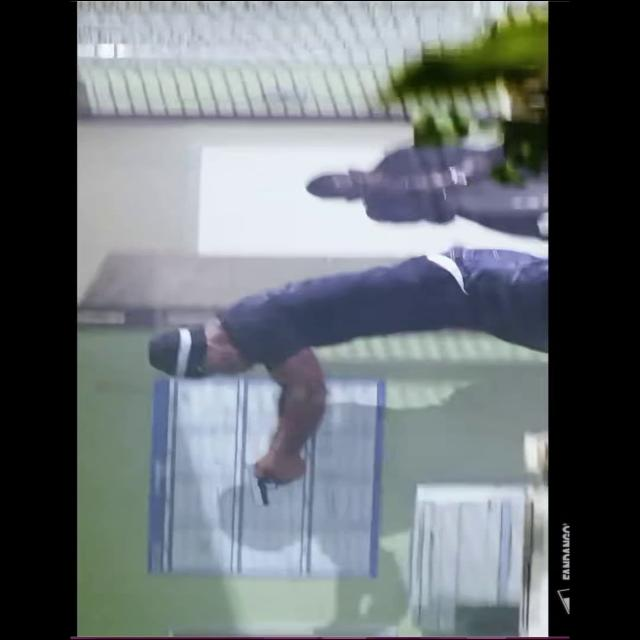weapons: (228, 451, 312, 511)
